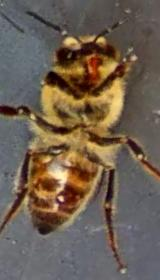varroa_mite: (51, 184, 93, 222)
